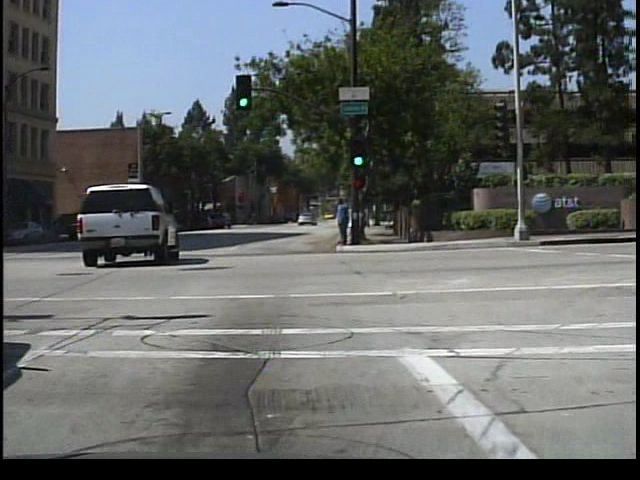person: (330, 191, 350, 246), (339, 195, 357, 243)
